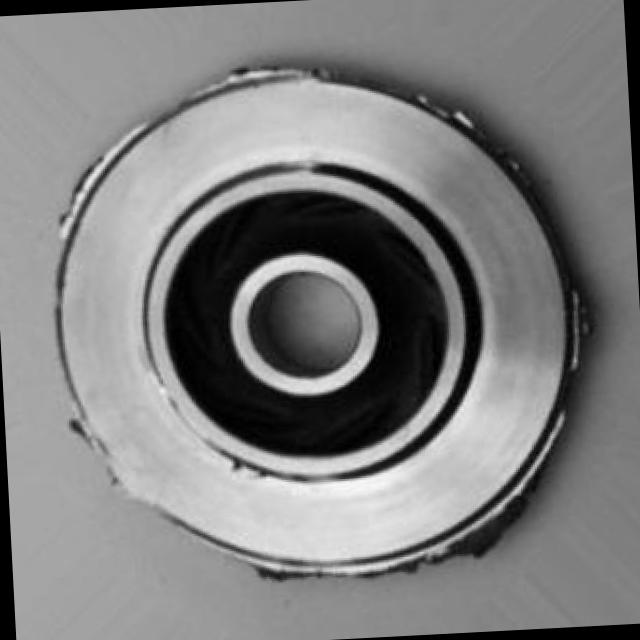Defect: (437, 508, 542, 568)
